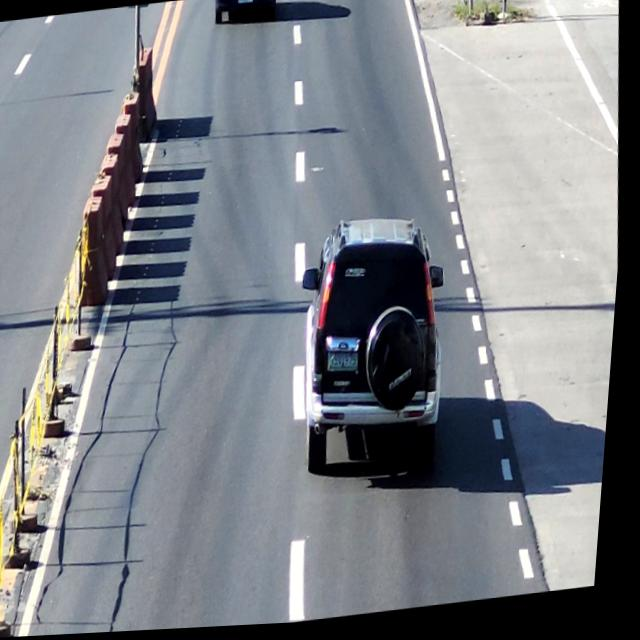Car: (292, 214, 464, 489), (213, 0, 282, 34)
License-Plate: (328, 351, 369, 386)
